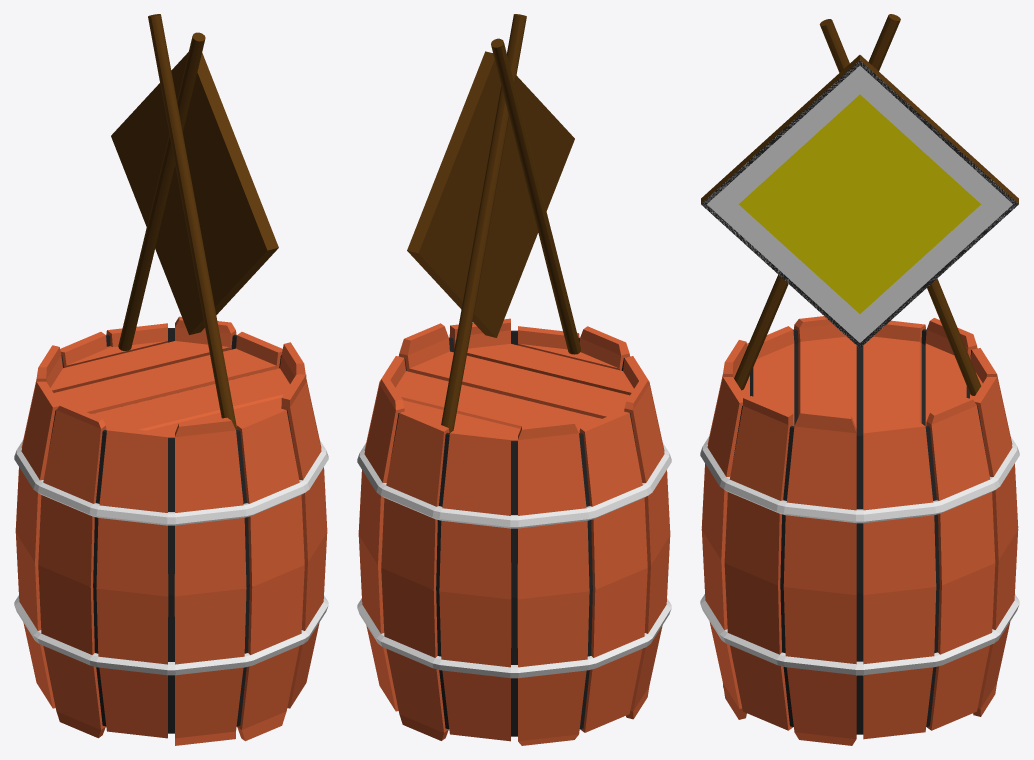
File: RightOfWay.fbx
The picture shows the model from 3 angles, left to right: view 1: azimuth 30°, elevation 25°; view 2: azimuth 150°, elevation 25°; view 3: azimuth 270°, elevation 25°; orthographic projection.
Parts seen in each view (by area): view 1: RightOfWay; view 2: RightOfWay; view 3: RightOfWay.
Boxes of the visible parts, <box> form: RightOfWay: <box>14,14,328,745</box>; RightOfWay: <box>357,14,671,745</box>; RightOfWay: <box>700,14,1019,745</box>.
Size of the model in its own units: 56.71 by 133 by 56.72.
